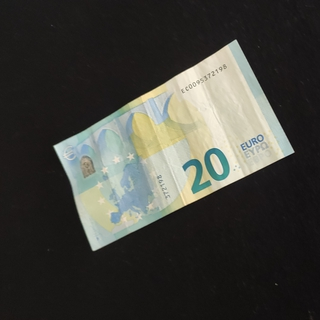20EUROBack: (52, 39, 295, 250)
